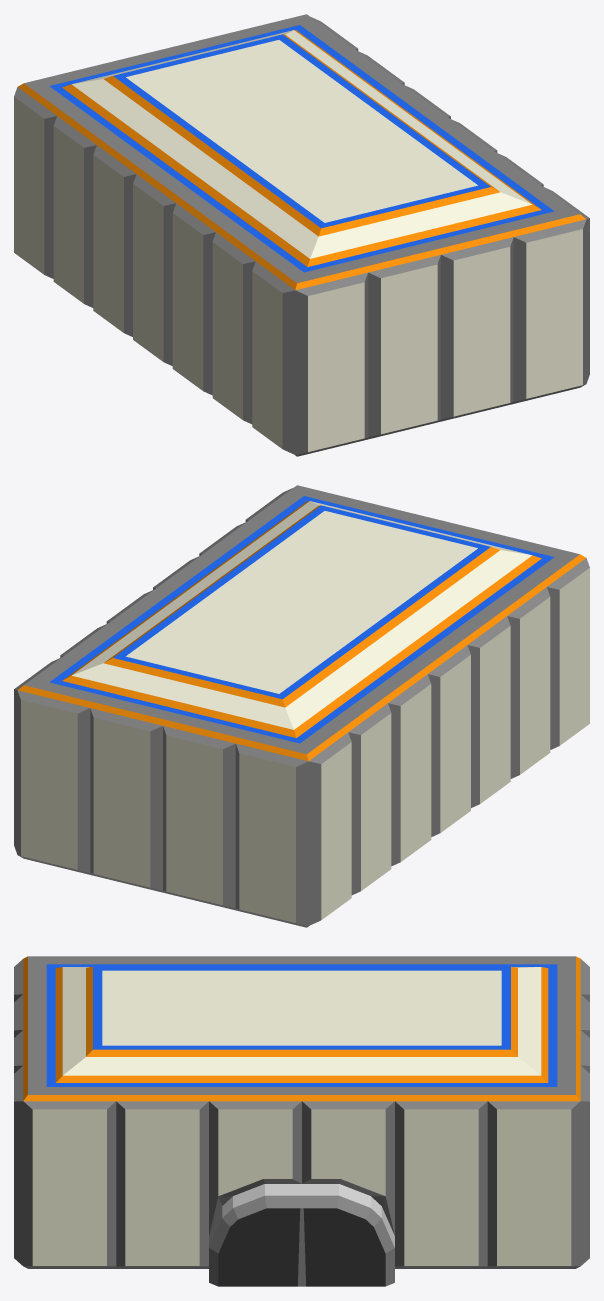
File: Environment_A.fbx
3 views of the same model, one above another, from view 1: azimuth 30°, elevation 25°; view 2: azimuth 150°, elevation 25°; view 3: azimuth 270°, elevation 25° (orthographic).
Parts seen in each view (by area): view 1: Cube.006, Cube; view 2: Cube.006, Cube; view 3: Cube.006, Cube.
Part boxes in pixels (x1=…): Cube.006: x1=14, y1=30, x2=582, y2=451; Cube: x1=14, y1=14, x2=589, y2=456; Cube.006: x1=21, y1=501, x2=589, y2=922; Cube: x1=14, y1=485, x2=589, y2=927; Cube.006: x1=32, y1=967, x2=571, y2=1265; Cube: x1=14, y1=956, x2=589, y2=1286.
Bounding box in the file's own units: 2 × 1.1 × 3.
